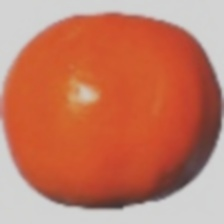tangerine: (43, 22, 222, 163)
